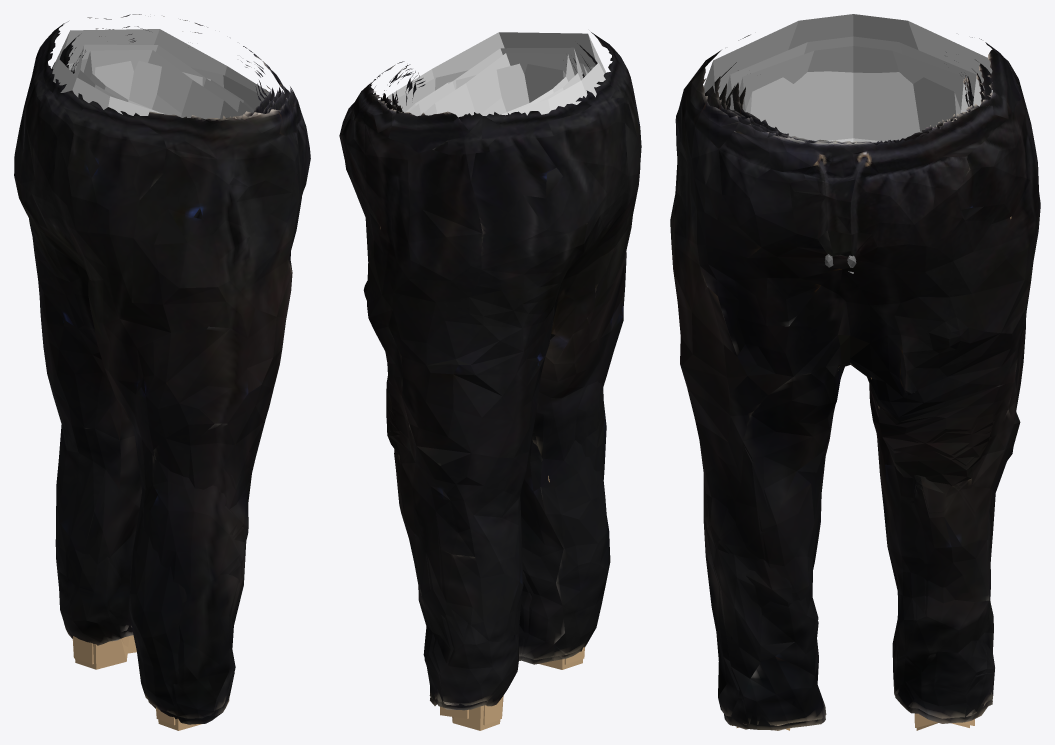
The model's file is &&blacksweatpants.glb.
3 views of the same model, side by side, from view 1: azimuth 30°, elevation 25°; view 2: azimuth 150°, elevation 25°; view 3: azimuth 270°, elevation 25° (orthographic). The views are drawn at different scales.
Parts seen in each view (by area): view 1: legs_w, legs.002, legs_w.003, legs_w.001, legs.001; view 2: legs_w, legs.001, legs.002, legs_w.001, legs_w.003, legs; view 3: legs_w, legs_w.001, legs, legs.002, legs.001, legs_w.003.
Boxes of the visible parts, bbox=[...] form: legs_w: bbox=[14, 14, 310, 711]; legs.002: bbox=[72, 41, 265, 653]; legs_w.003: bbox=[71, 40, 274, 725]; legs_w.001: bbox=[62, 34, 279, 730]; legs.001: bbox=[52, 26, 289, 696]; legs_w: bbox=[339, 32, 641, 705]; legs.001: bbox=[369, 41, 597, 552]; legs.002: bbox=[392, 60, 606, 703]; legs_w.001: bbox=[380, 47, 590, 730]; legs_w.003: bbox=[397, 53, 584, 725]; legs: bbox=[382, 59, 584, 718]; legs_w: bbox=[670, 14, 1040, 704]; legs_w.001: bbox=[702, 36, 995, 730]; legs: bbox=[725, 72, 994, 727]; legs.002: bbox=[703, 71, 994, 727]; legs.001: bbox=[681, 52, 1021, 725]; legs_w.003: bbox=[711, 46, 973, 716].
Bounding box in the file's own units: 0.478 × 1.16 × 0.5723.
Materials: 13 (1 with a texture image).
